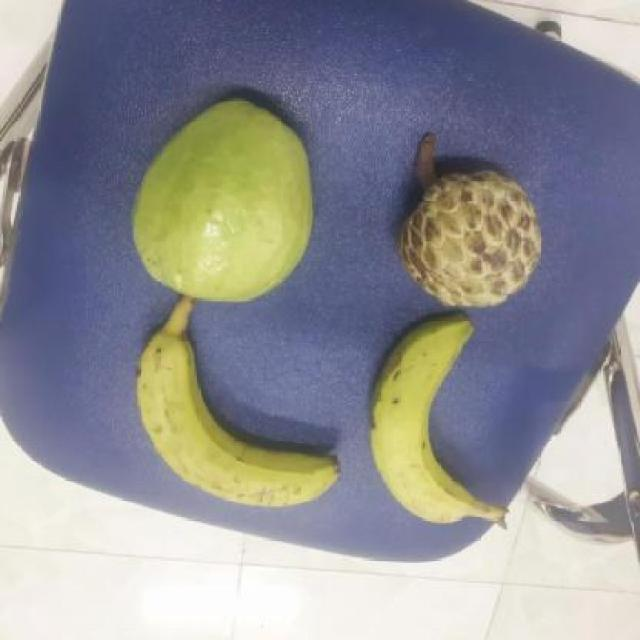banana: (127, 318, 345, 512), (366, 316, 486, 539)
guava: (128, 101, 314, 308)
sugar apple: (398, 171, 550, 315)
